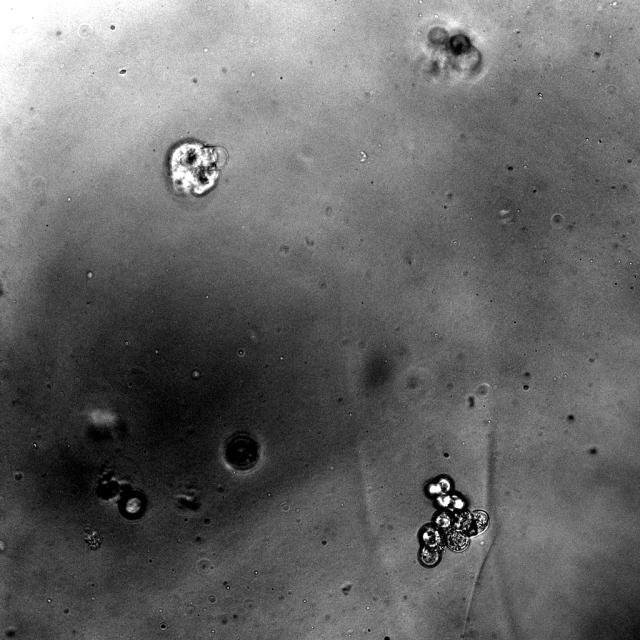organoid: (417, 474, 489, 567), (416, 24, 484, 80), (168, 140, 228, 197), (96, 472, 147, 519), (225, 433, 259, 470), (84, 525, 101, 550), (13, 470, 22, 480)
